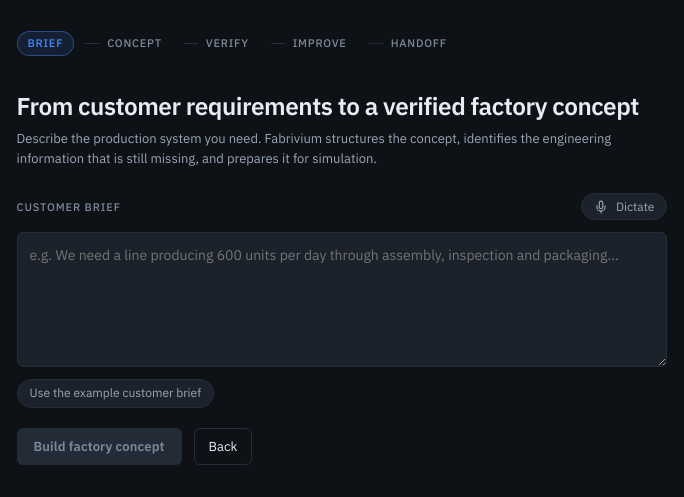
Scenario: brief dictation › with a supported browser › explains a declined microphone without breaking the brief
Click the button with test id "concept-brief-mic" at (624, 207), box [581,193,668,220]
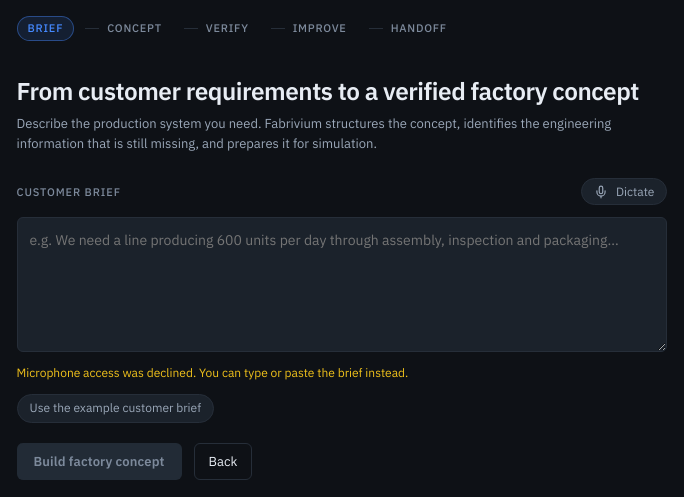
Expected: the text box with test id "concept-brief-input" is enabled, [16,217,667,352]
Expected: the text with test id "concept-brief-speech-message" shows "type or paste", [16,365,408,380]
